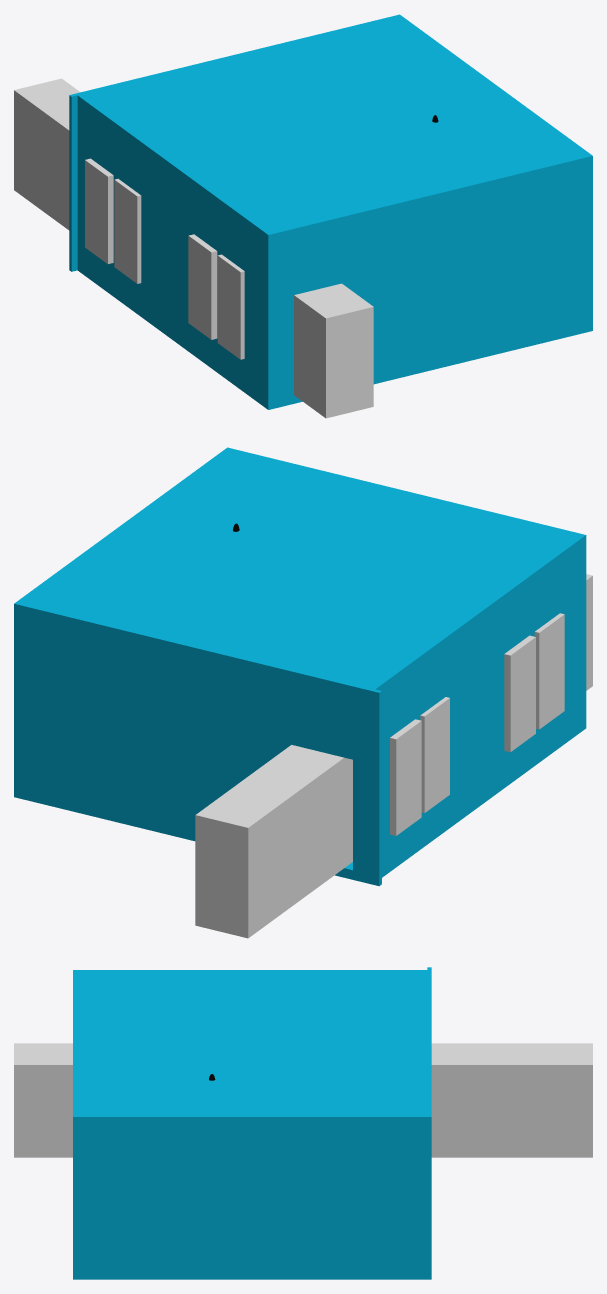
The picture shows the model from 3 angles, top to bottom: view 1: azimuth 30°, elevation 25°; view 2: azimuth 150°, elevation 25°; view 3: azimuth 270°, elevation 25°; orthographic projection. The views are drawn at different scales.
Visible parts, largest first — view 1: Cube.021, Cube.019, Cube.034, Cube.018, Cube.033, Cube.037, Cube.035, Cube.023, Cube.025, Cube.022, Cube.024, Cube.036 (+2 smaller); view 2: Cube.021, Cube.020, Cube.034, Cube.018, Cube.033, Cube.037, Cube.036, Cube.025, Cube.023, Cube.022, Cube.024, Cube.016 (+1 smaller); view 3: Cube.016, Cube.021, Cube.037, Cube.033, Cube.018, Cube.034, Cube.017.
Boxes of the visible parts, box(x1,y1,x2,y2) form: Cube.021: box(239, 17, 586, 193); Cube.019: box(428, 155, 588, 370); Cube.034: box(77, 94, 272, 409); Cube.018: box(121, 55, 425, 383); Cube.033: box(82, 84, 429, 238); Cube.037: box(14, 78, 373, 418); Cube.035: box(270, 228, 429, 408); Cube.023: box(188, 234, 217, 339); Cube.025: box(85, 158, 113, 263); Cube.022: box(217, 254, 244, 359); Cube.024: box(114, 178, 141, 283); Cube.036: box(69, 56, 230, 271); Cube.021: box(21, 450, 404, 645); Cube.020: box(18, 603, 196, 840); Cube.034: box(368, 534, 586, 884); Cube.018: box(199, 560, 449, 811); Cube.033: box(194, 491, 583, 694); Cube.037: box(195, 574, 592, 938); Cube.036: box(203, 656, 381, 886); Cube.025: box(390, 719, 421, 835); Cube.023: box(504, 635, 535, 752); Cube.022: box(534, 613, 564, 729); Cube.024: box(420, 697, 449, 812); Cube.016: box(14, 447, 231, 797); Cube.016: box(73, 1115, 431, 1279); Cube.021: box(77, 1043, 427, 1115); Cube.037: box(14, 1043, 592, 1157); Cube.033: box(73, 971, 427, 1043); Cube.018: box(203, 991, 431, 1041); Cube.034: box(73, 970, 427, 971); Cube.017: box(241, 1041, 431, 1043).
Size of the model in its own units: 4150 by 2173 by 6783.
